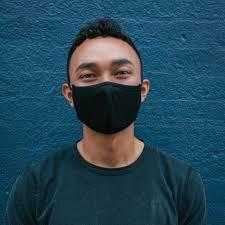mask: (67, 80, 154, 138)
